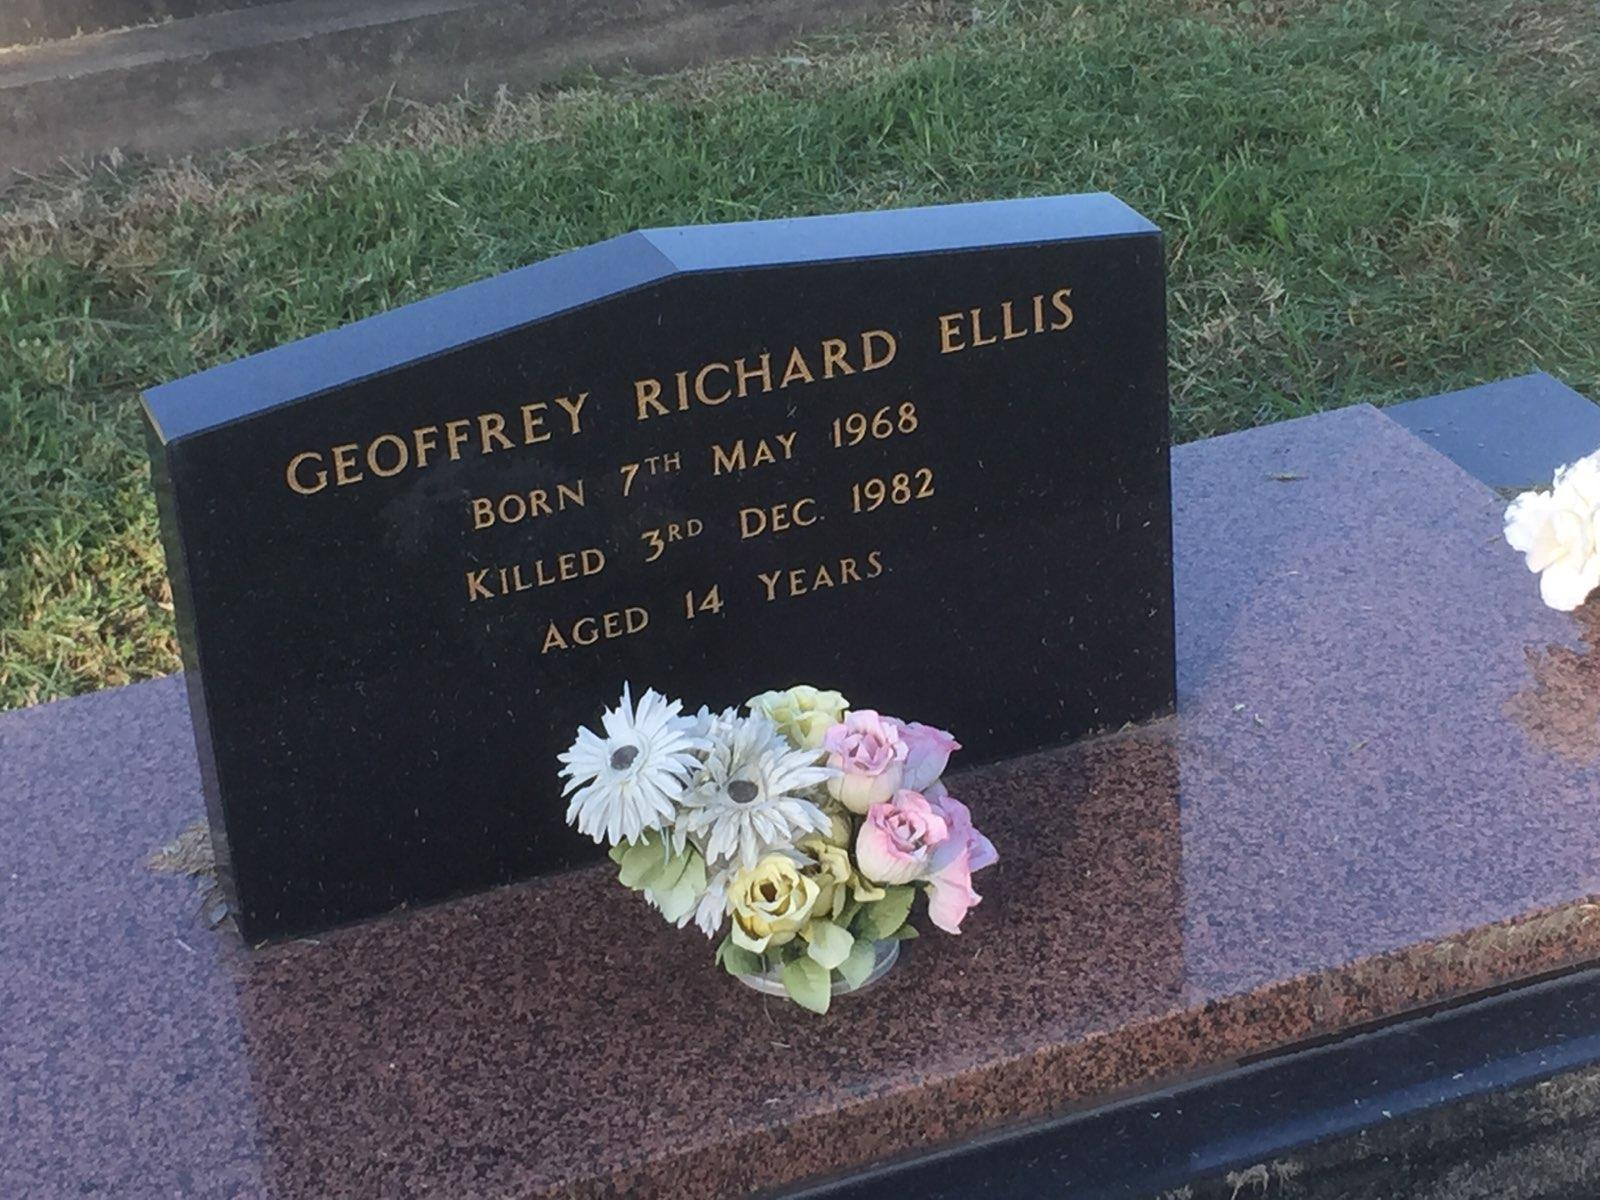upright: (96, 176, 1512, 1016)
